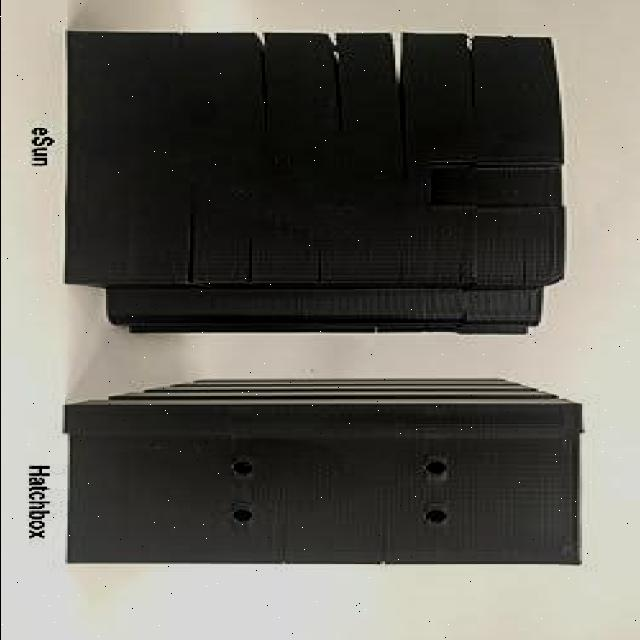cracking: (358, 15, 420, 171), (156, 211, 236, 317), (240, 24, 288, 131), (441, 17, 487, 119), (314, 16, 344, 132)
